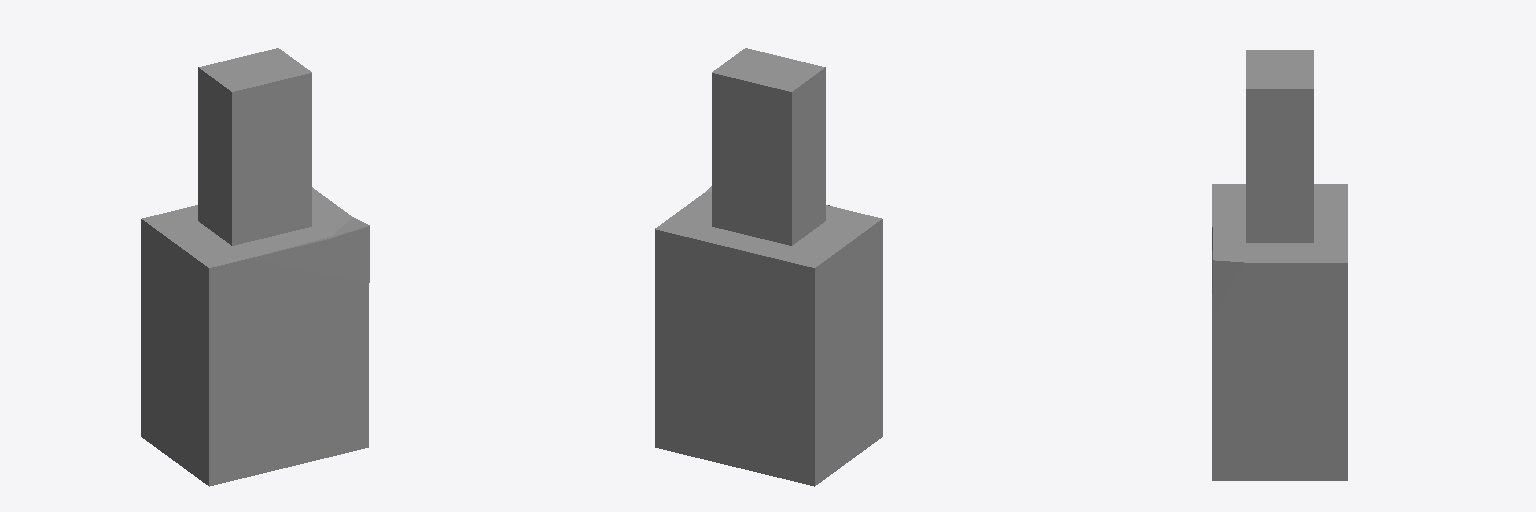
Rendered from simple_building1.obj.
3 views of the same model, side by side, from view 1: azimuth 30°, elevation 25°; view 2: azimuth 150°, elevation 25°; view 3: azimuth 270°, elevation 25° (orthographic).
Parts seen in each view (by area): view 1: Cube; view 2: Cube; view 3: Cube.
Part boxes in pixels (x1,y1,x2,y2): Cube: (141,48,369,486); Cube: (655,48,882,486); Cube: (1212,50,1347,480).
Bounding box in the file's own units: 2.35 × 5.17 × 1.71.